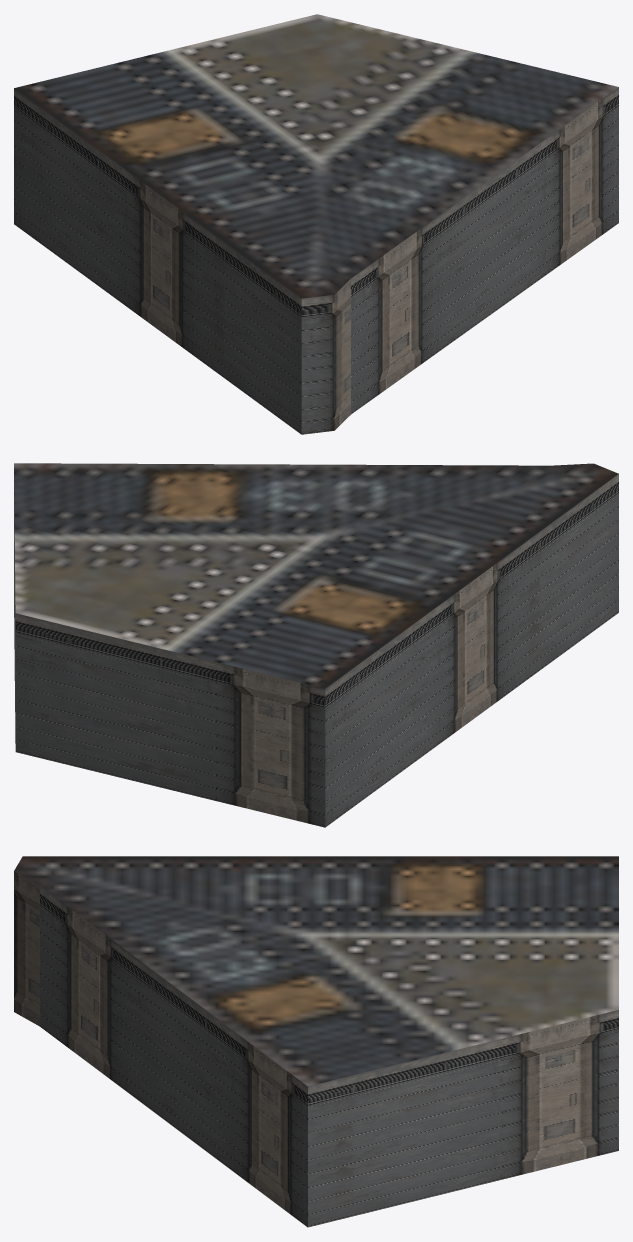
File: hangar_heavy_a_03.glb
3 views of the same model, one above another, from view 1: azimuth 30°, elevation 25°; view 2: azimuth 150°, elevation 25°; view 3: azimuth 270°, elevation 25° (orthographic). The views are drawn at different scales.
Visible parts, largest first — view 1: buildings/saxarba/hangar_heavy/hangar_heavy_a_03; view 2: buildings/saxarba/hangar_heavy/hangar_heavy_a_03; view 3: buildings/saxarba/hangar_heavy/hangar_heavy_a_03.
Boxes of the visible parts, x1,y1,x2,y2 form: buildings/saxarba/hangar_heavy/hangar_heavy_a_03: [14, 14, 618, 434]; buildings/saxarba/hangar_heavy/hangar_heavy_a_03: [14, 463, 618, 827]; buildings/saxarba/hangar_heavy/hangar_heavy_a_03: [14, 856, 618, 1227].
Size of the model in its own units: 63 by 18 by 70.
